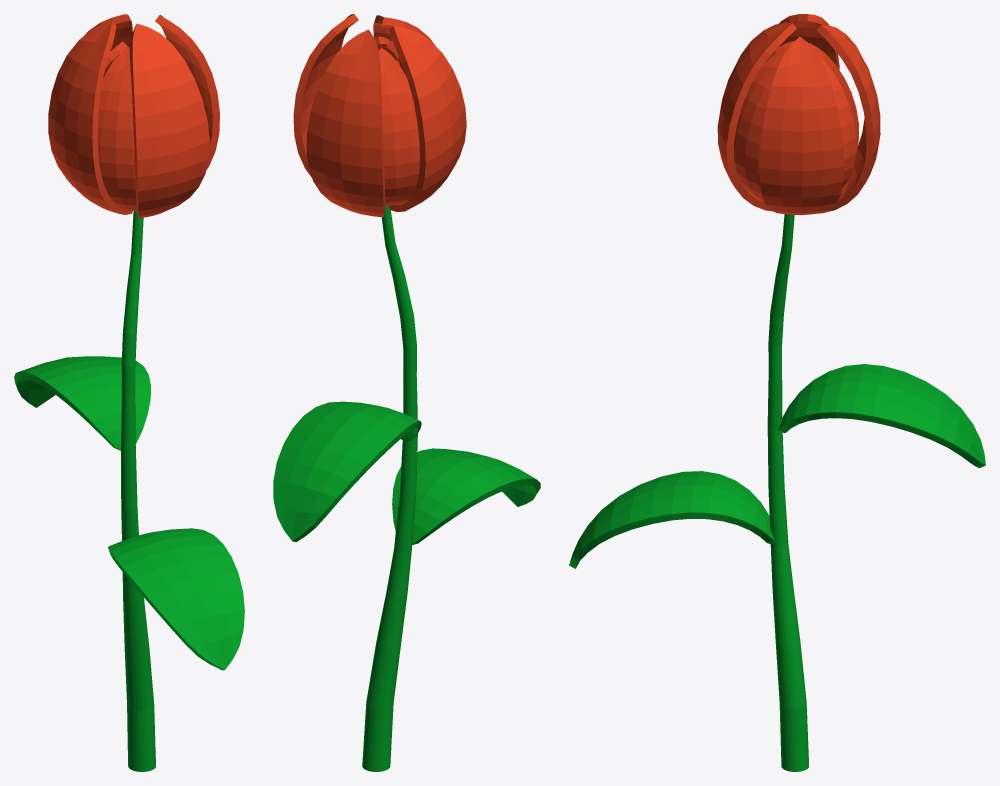
The model's file is Tulipe_Mesh.fbx.
The picture shows the model from 3 angles, left to right: view 1: azimuth 30°, elevation 25°; view 2: azimuth 150°, elevation 25°; view 3: azimuth 270°, elevation 25°; orthographic projection.
Visible parts, largest first — view 1: Cylinder.005; view 2: Cylinder.005; view 3: Cylinder.005.
Part boxes in pixels (box(x1,y1,x2,y2)): Cylinder.005: box(14, 14, 244, 771); Cylinder.005: box(273, 14, 540, 771); Cylinder.005: box(569, 14, 985, 771).
Size of the model in its own units: 21.32 by 107 by 54.36.
